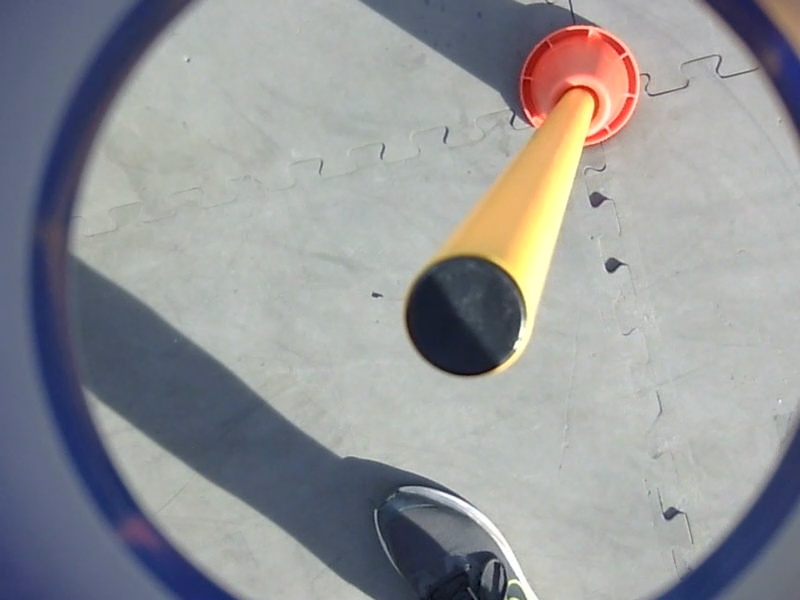tip: (398, 247, 535, 384)
